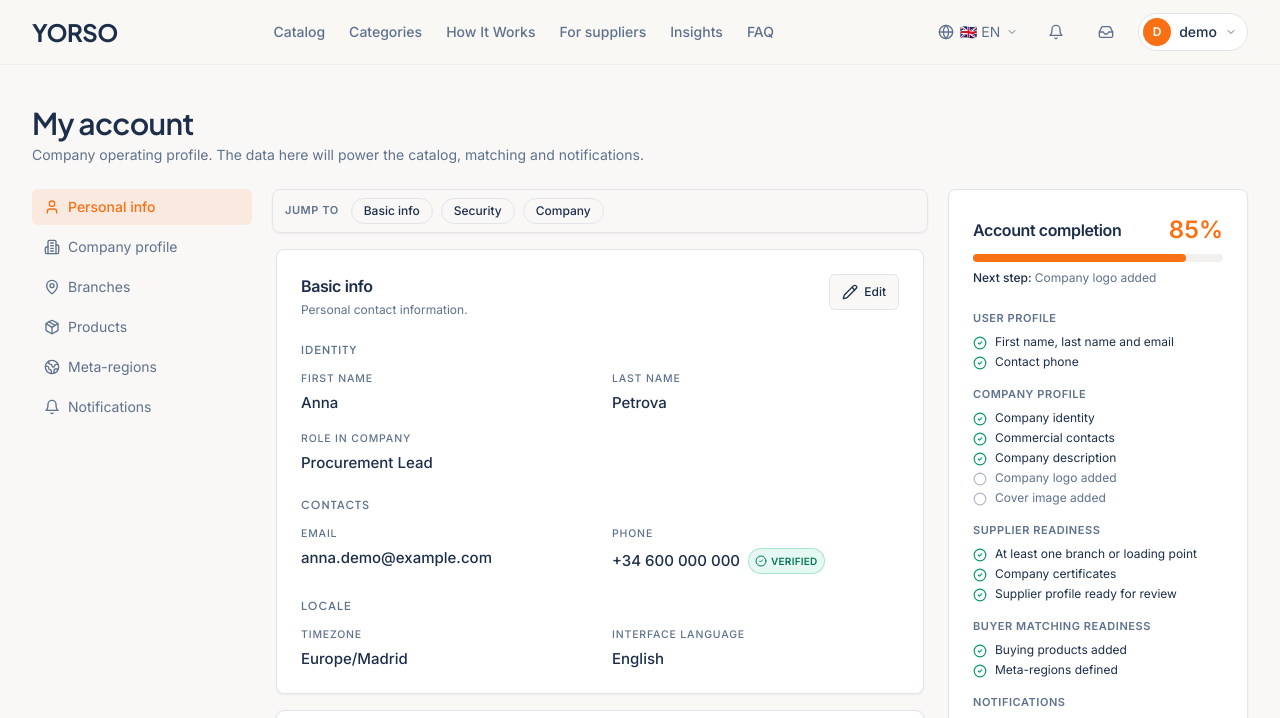
Test: Account editability › Personal: cancel restores previous value
Click the button with test id "account-card-personal-basic-edit" at coordinates (864, 292), box [829,274,899,310]
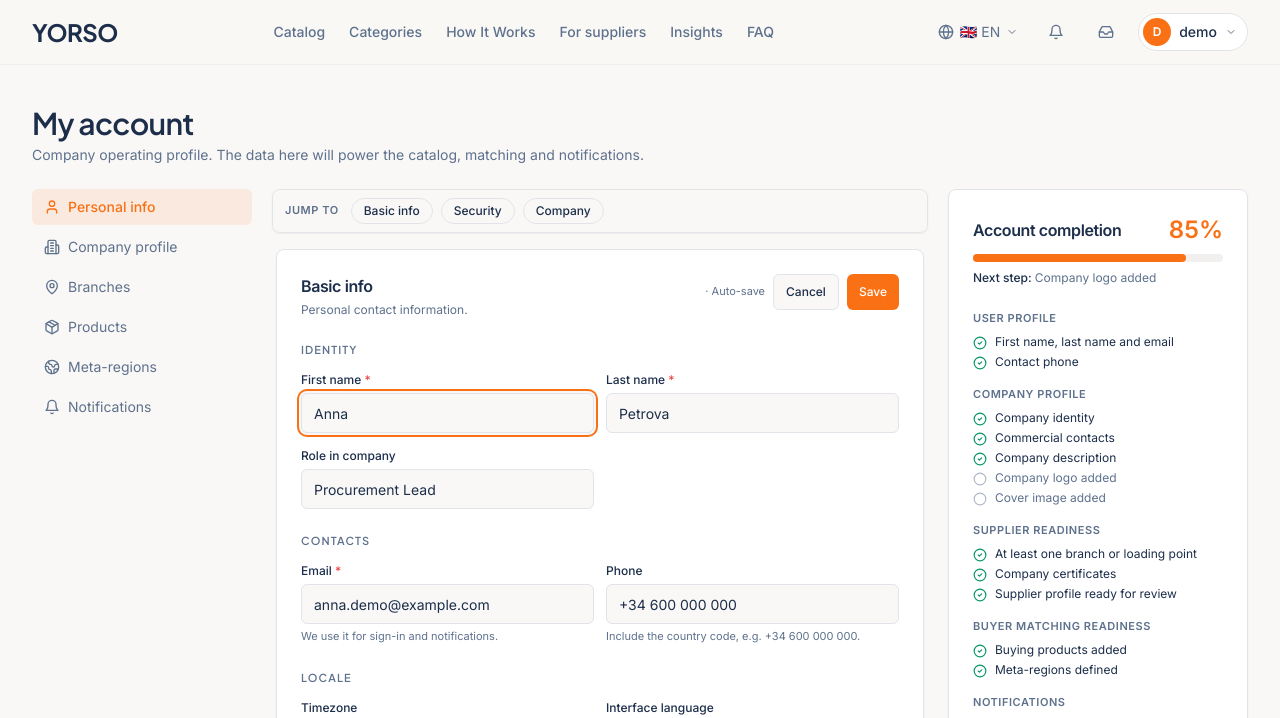
Replace the text in the field with test id "account-input-firstName" with "Throwaway" at coordinates (448, 413), box [301,393,594,433]
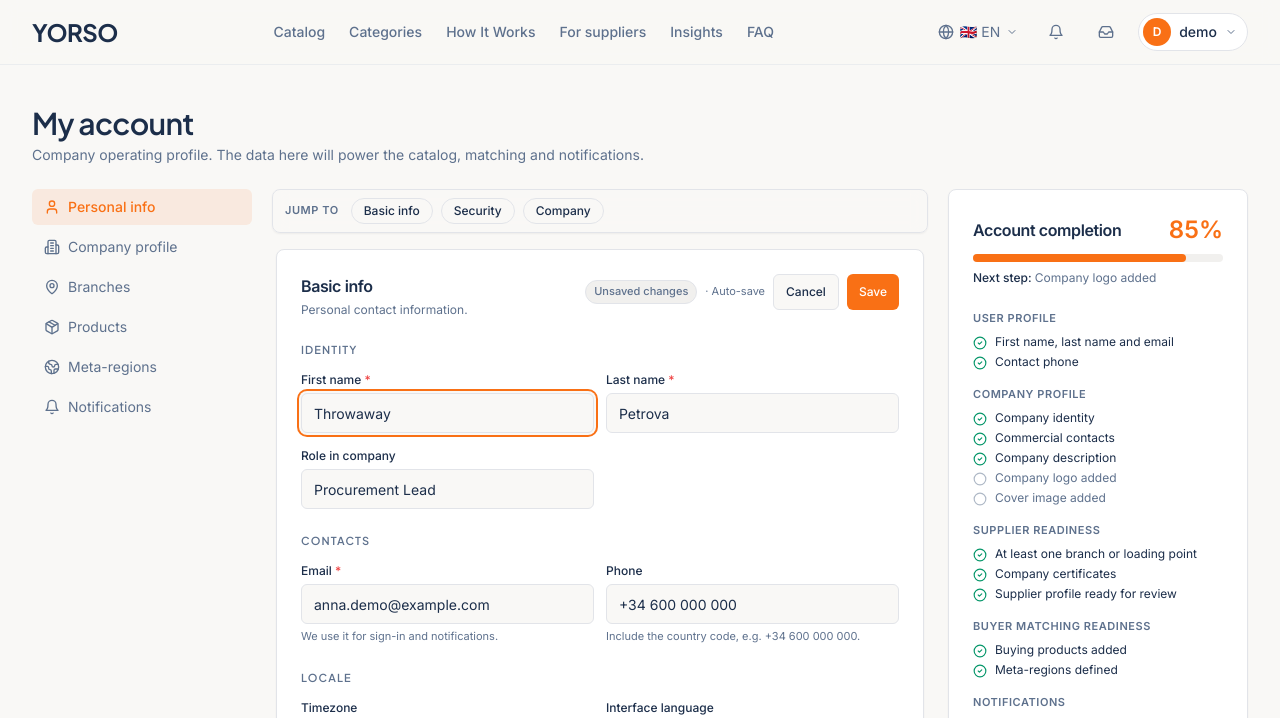
Click the button with test id "account-card-personal-basic-cancel" at coordinates (806, 292), box [773,274,839,310]
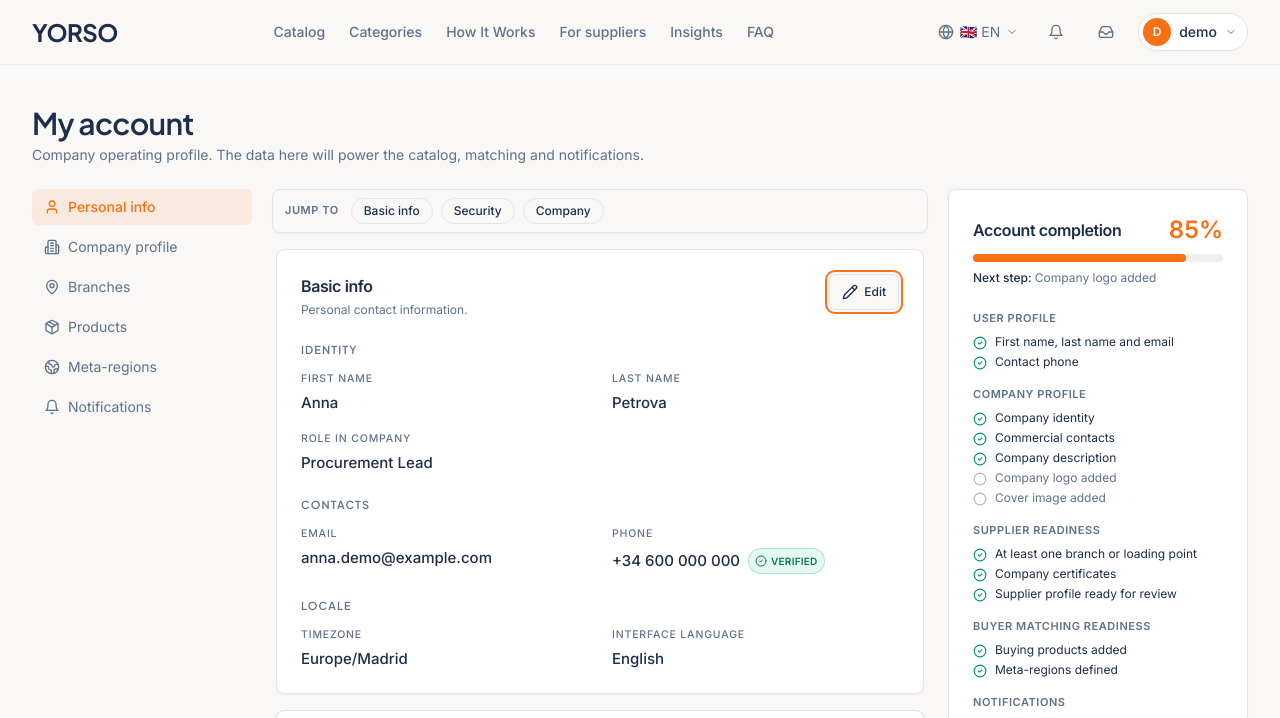
Result: the text "Anna" is shown at [301,393,338,413]
